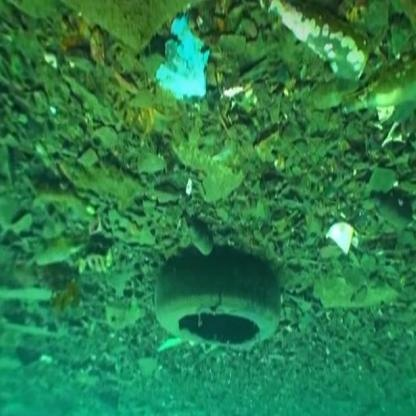tire: (162, 257, 284, 357)
